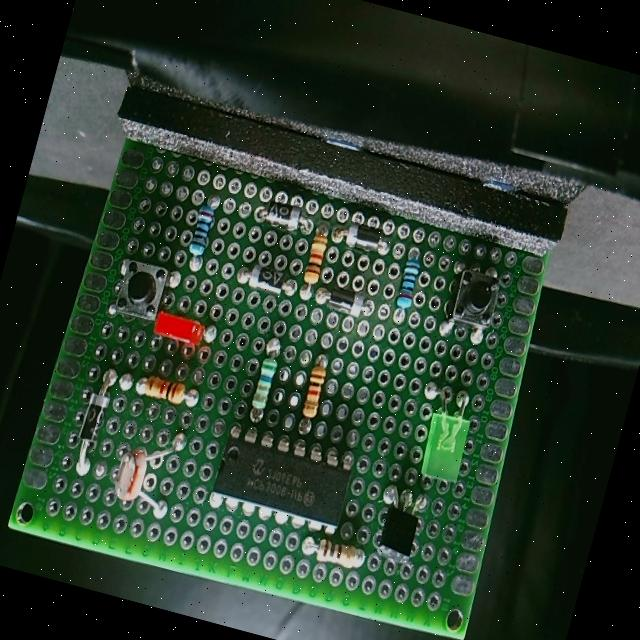IC: (205, 417, 365, 539)
cds: (100, 438, 158, 504)
diode: (60, 362, 118, 476), (233, 252, 296, 298), (316, 280, 374, 326), (333, 214, 388, 262), (258, 194, 308, 237)
led: (414, 388, 481, 492), (147, 297, 210, 357)
resistor: (298, 347, 344, 426), (128, 370, 193, 422), (240, 344, 284, 416), (184, 190, 226, 264), (309, 532, 368, 580), (294, 222, 335, 290), (390, 248, 428, 318)
switch: (105, 246, 173, 328), (446, 256, 508, 330)
transistor: (375, 482, 432, 562)
